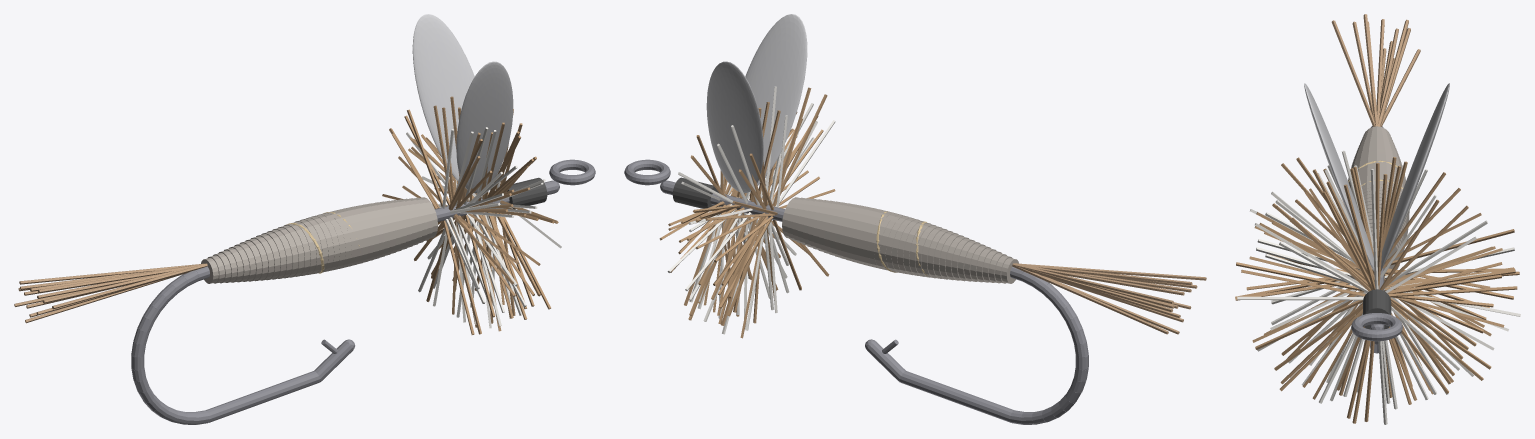
Rendered from mosca-secca.glb.
3 renders of one model, left to right at view 1: azimuth 30°, elevation 25°; view 2: azimuth 150°, elevation 25°; view 3: azimuth 270°, elevation 25°, orthographic. The views are drawn at different scales.
Visible parts, largest first — view 1: corpo, hackle_marrone, amo, hackle_grizzly, ala_sx, ala_dx, coda, testa; view 2: corpo, hackle_marrone, amo, hackle_grizzly, ala_dx, ala_sx, coda, testa; view 3: hackle_marrone, hackle_grizzly, coda, corpo, ala_sx, ala_dx, amo, testa.
Part boxes in pixels (bbox=[...]): corpo: bbox=[201, 197, 437, 283]; hackle_marrone: bbox=[382, 96, 558, 334]; amo: bbox=[131, 159, 595, 424]; hackle_grizzly: bbox=[406, 127, 561, 328]; ala_sx: bbox=[412, 14, 474, 181]; ala_dx: bbox=[456, 61, 513, 193]; coda: bbox=[14, 263, 207, 323]; testa: bbox=[507, 177, 547, 209]; corpo: bbox=[782, 197, 1018, 283]; hackle_marrone: bbox=[659, 87, 835, 338]; amo: bbox=[624, 159, 1088, 424]; hackle_grizzly: bbox=[667, 86, 835, 334]; ala_dx: bbox=[745, 14, 807, 185]; ala_sx: bbox=[706, 61, 763, 193]; coda: bbox=[1012, 263, 1206, 334]; testa: bbox=[672, 177, 718, 208]; hackle_marrone: bbox=[1235, 157, 1519, 423]; hackle_grizzly: bbox=[1237, 150, 1520, 424]; coda: bbox=[1331, 14, 1420, 126]; corpo: bbox=[1348, 126, 1409, 269]; ala_sx: bbox=[1380, 83, 1449, 270]; ala_dx: bbox=[1304, 83, 1374, 271]; amo: bbox=[1351, 126, 1402, 353]; testa: bbox=[1363, 289, 1391, 329].
Size of the model in its own units: 1.77 by 0.9795 by 0.7046.
